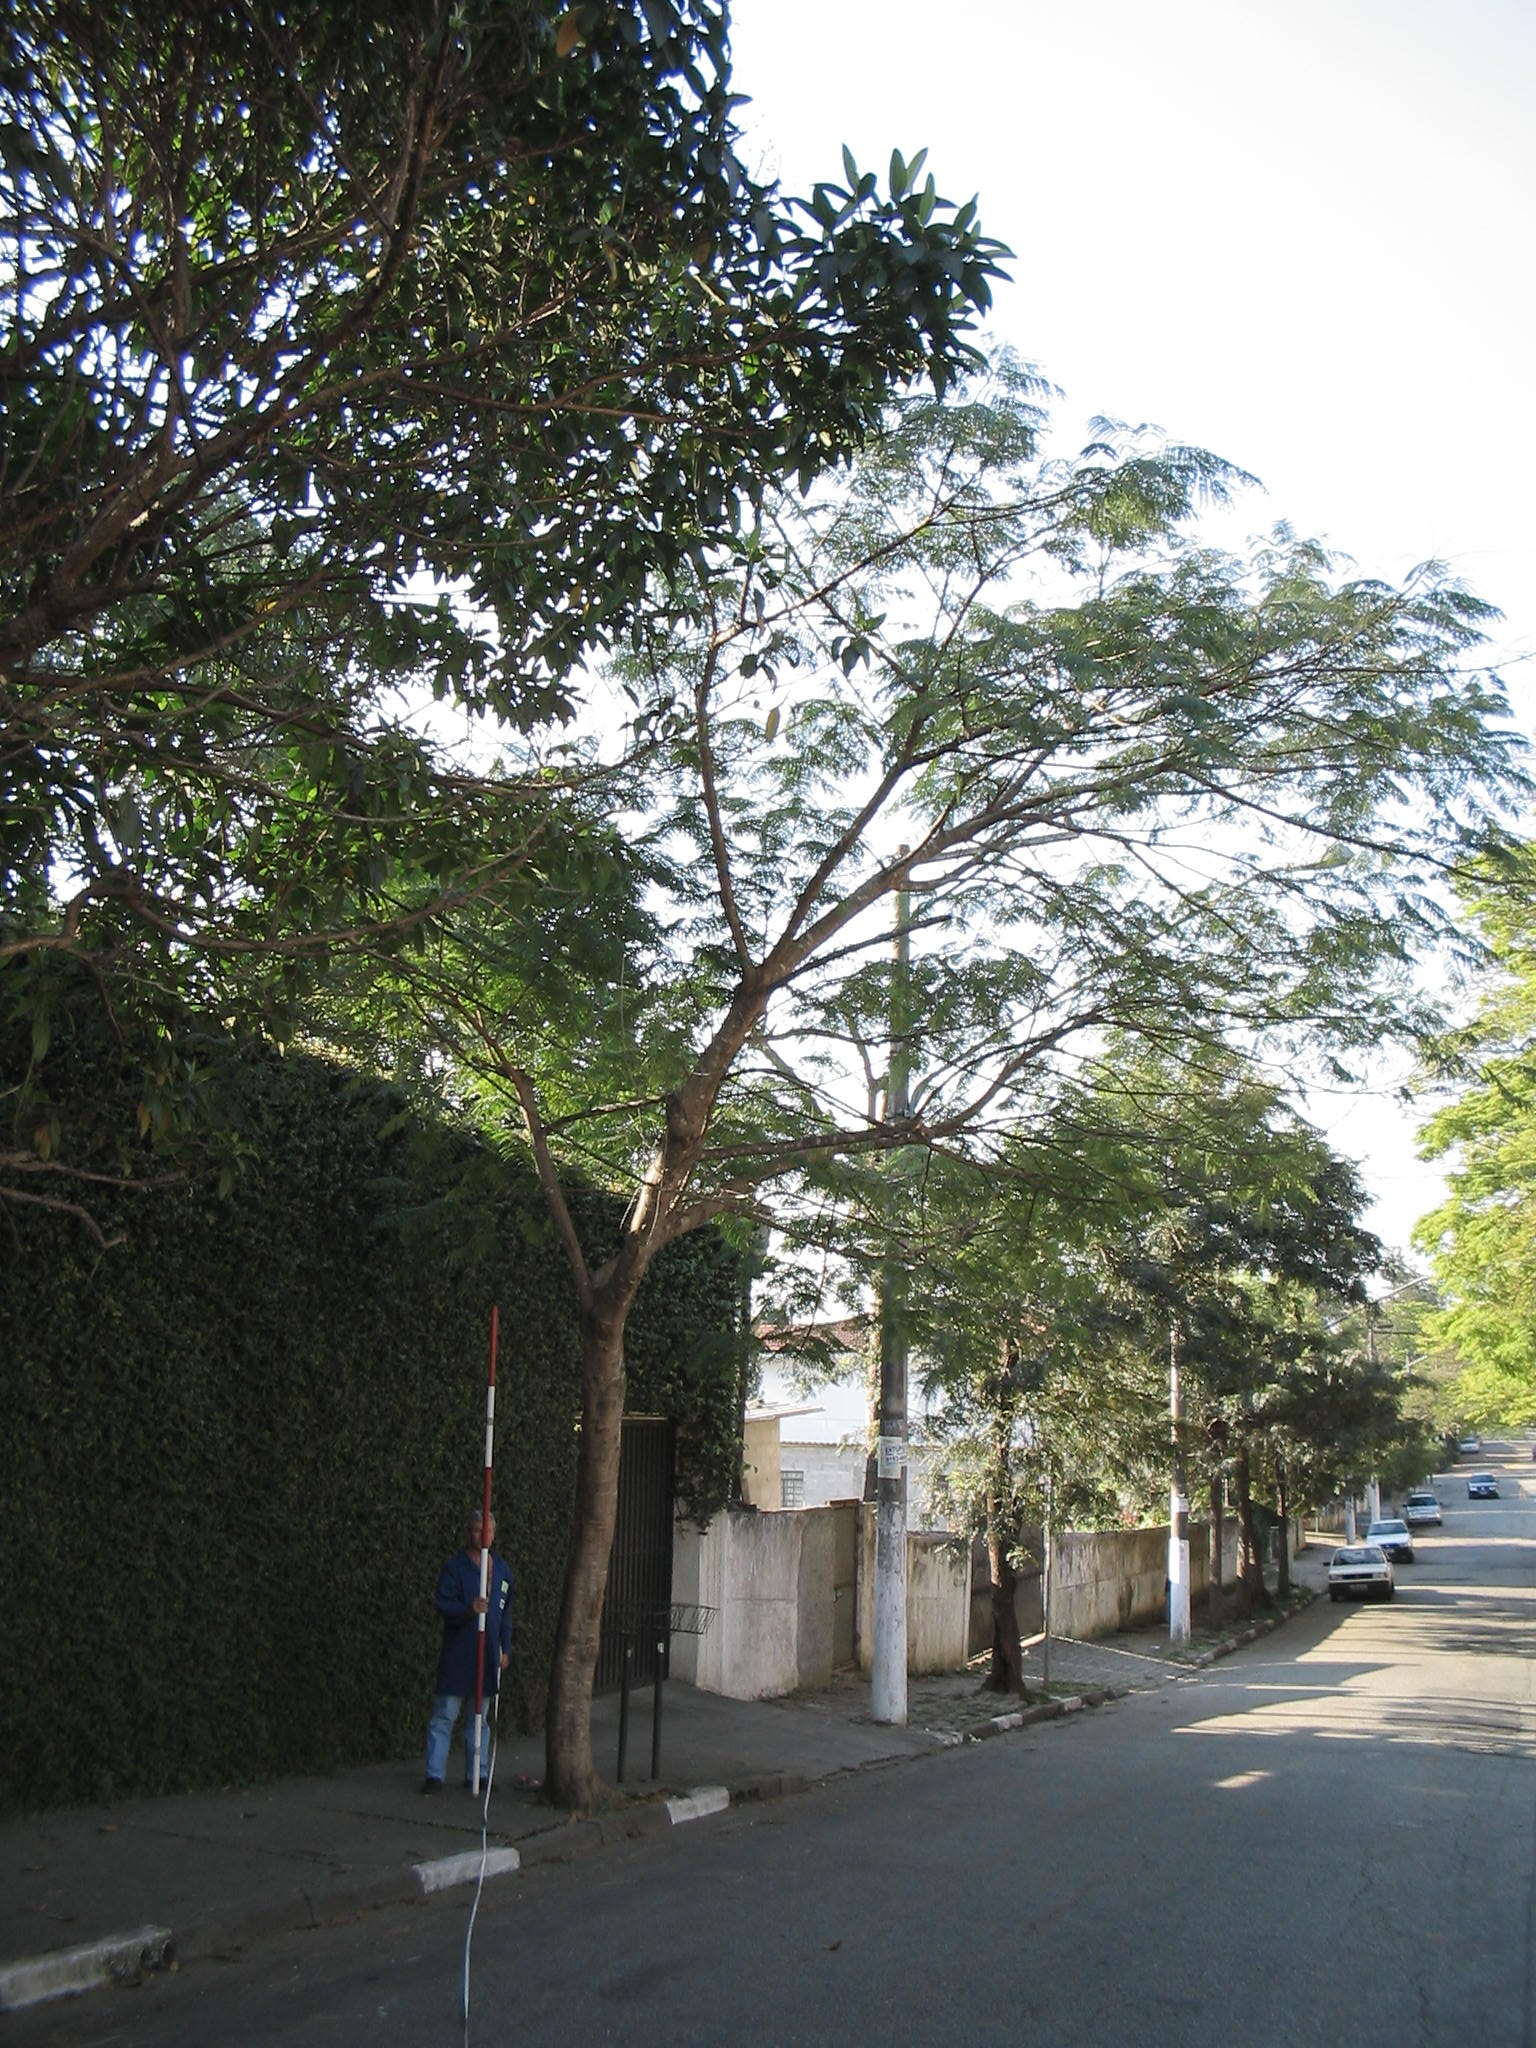crown: (366, 361, 1521, 1340)
stem: (520, 1290, 658, 1804)
stick: (449, 1303, 524, 1795)
tree: (353, 355, 1515, 1811)
